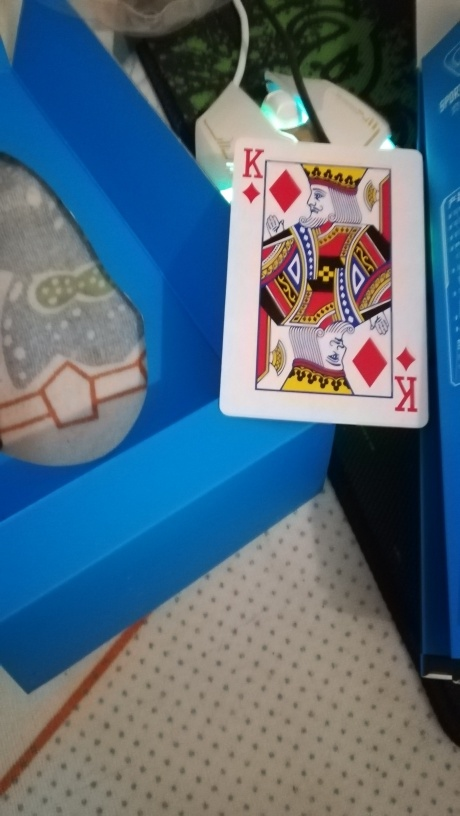fk k: (219, 139, 431, 430)
